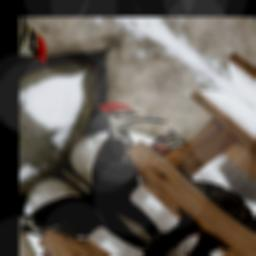Woodpecker: (39, 78, 234, 248)
